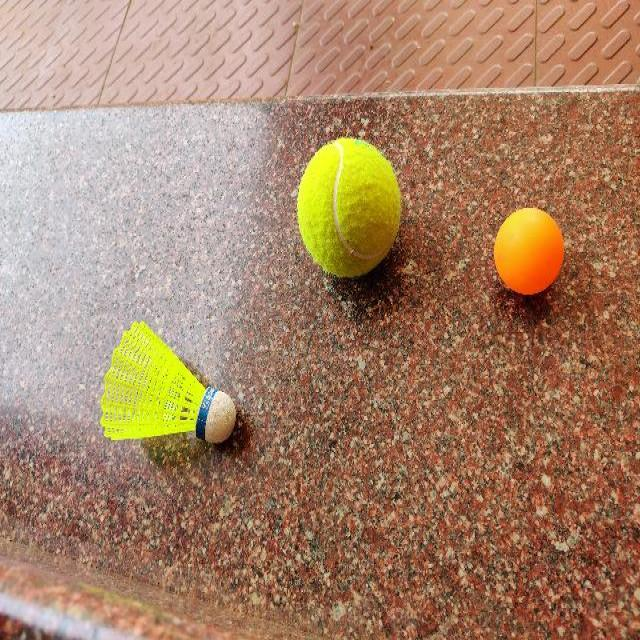oball: (495, 206, 565, 298)
